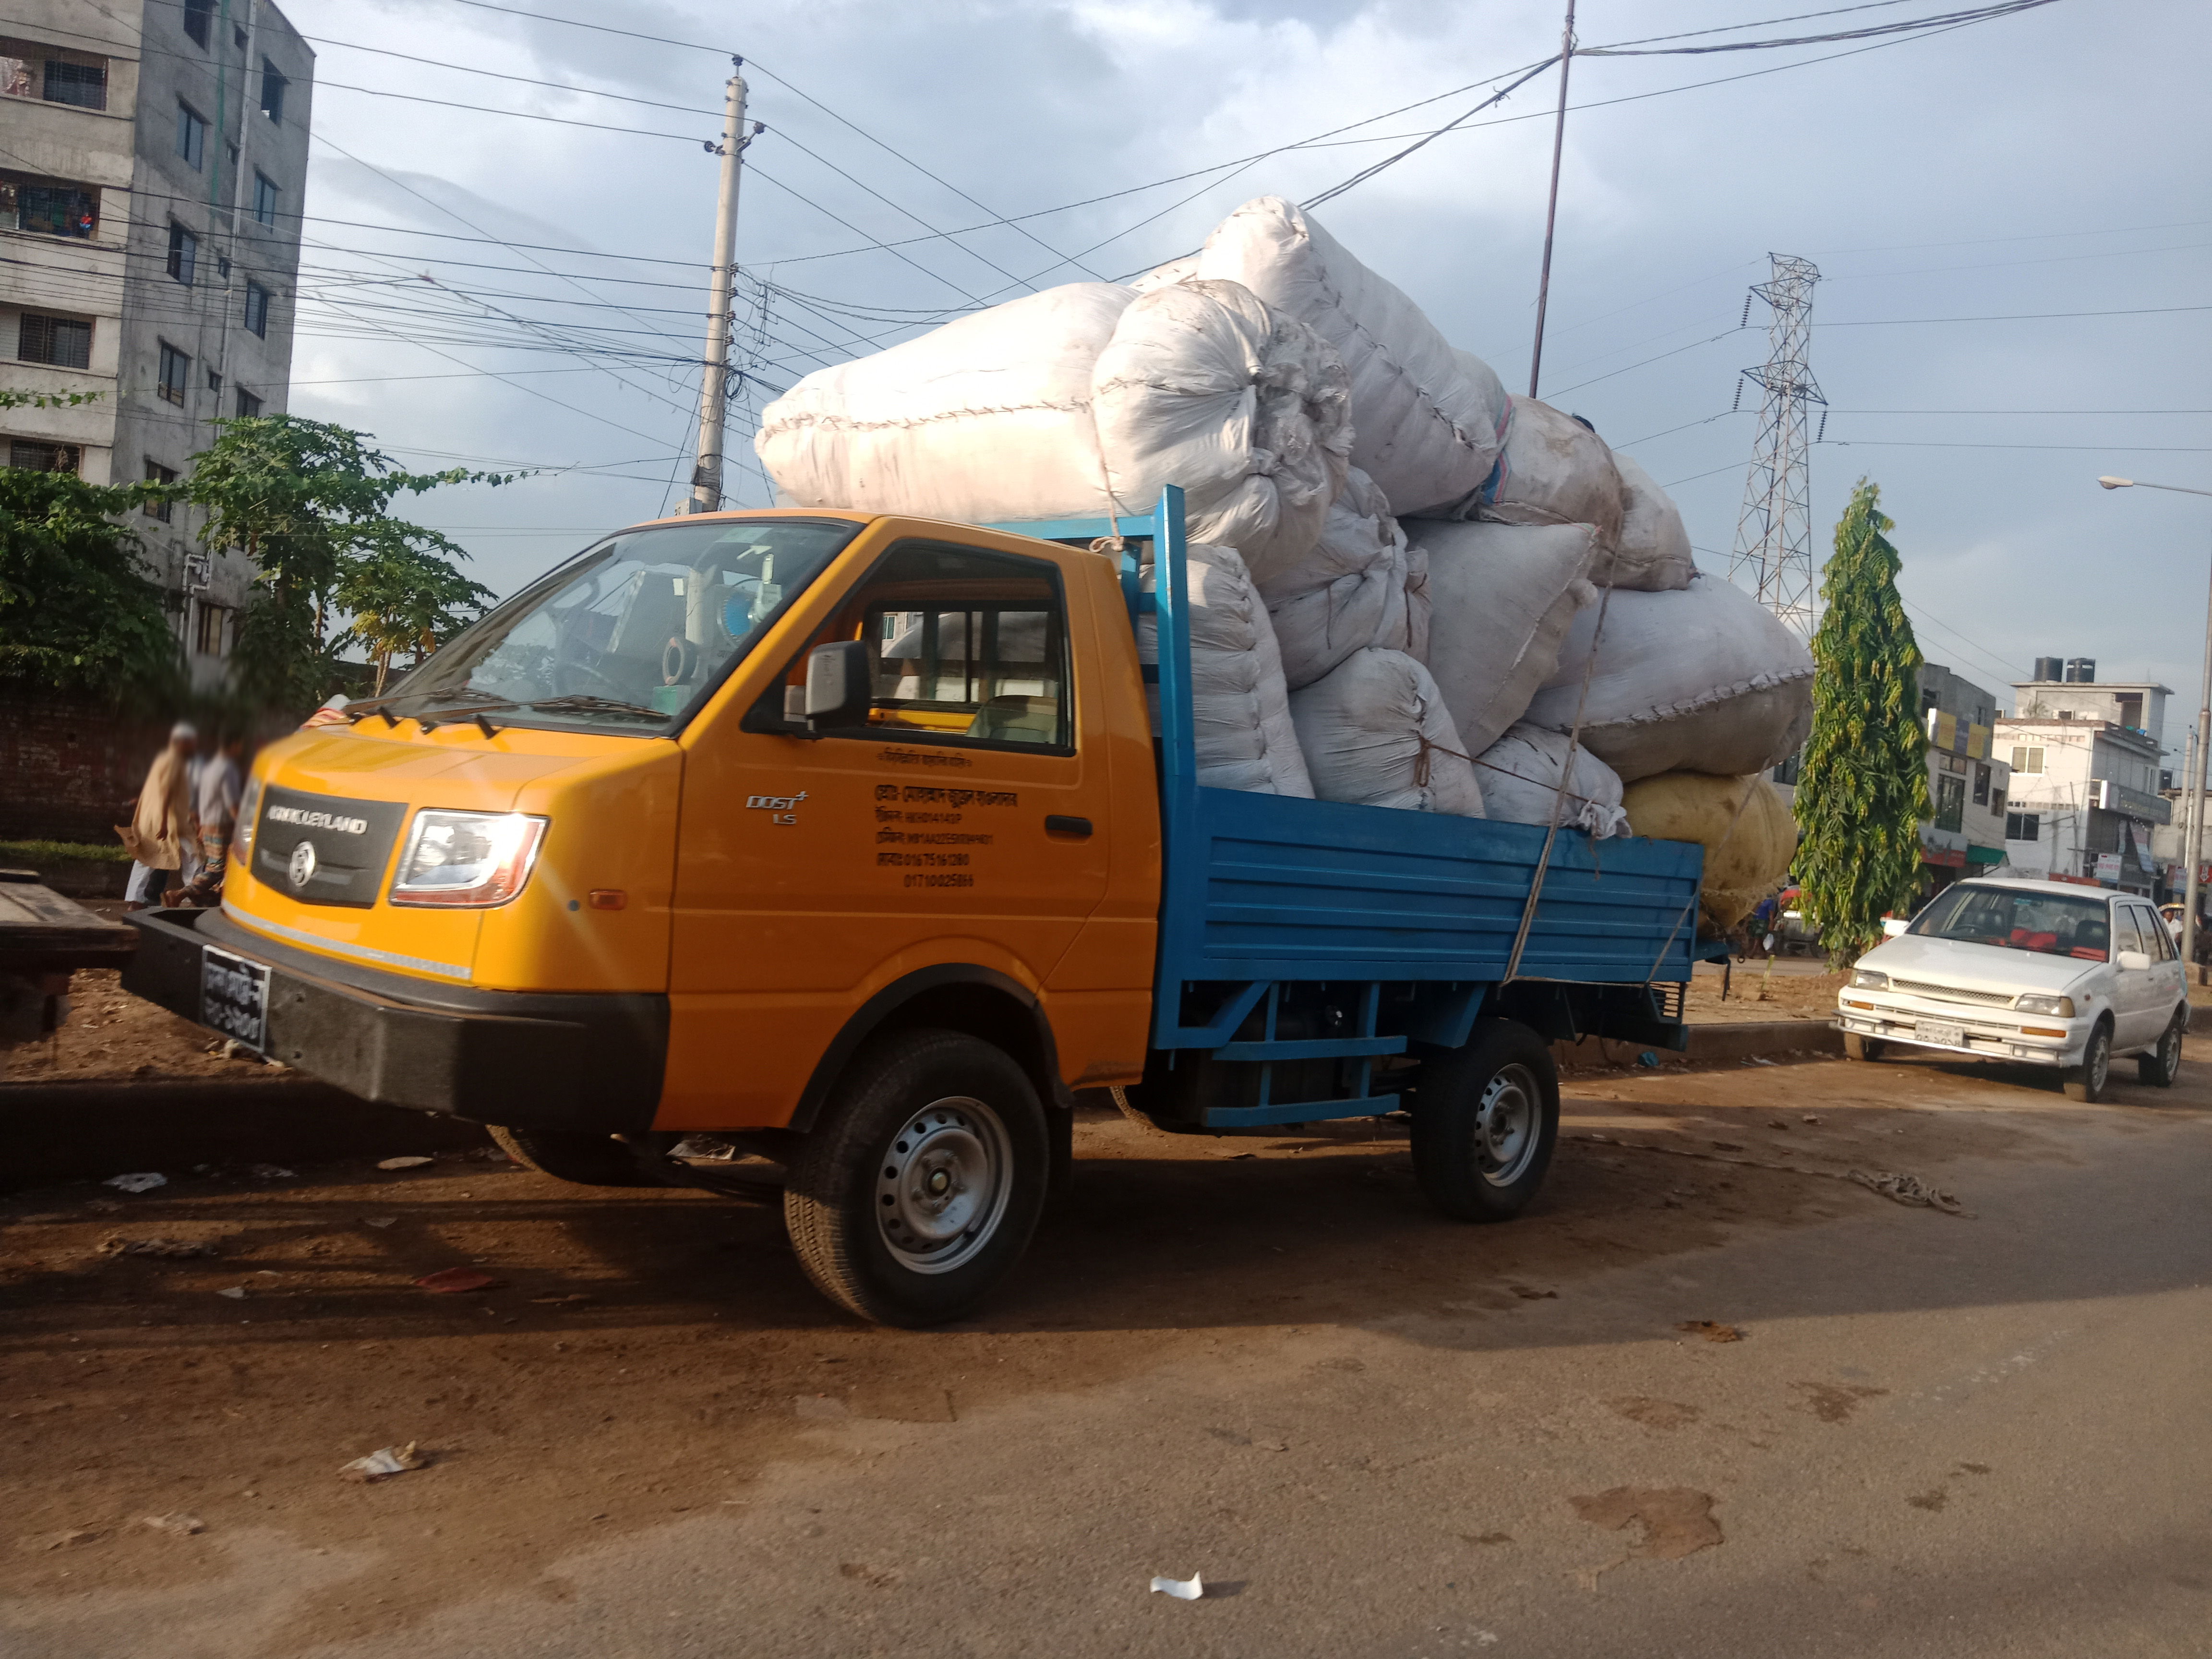car: (1836, 873, 2195, 1098)
truck: (115, 507, 1702, 1323)
